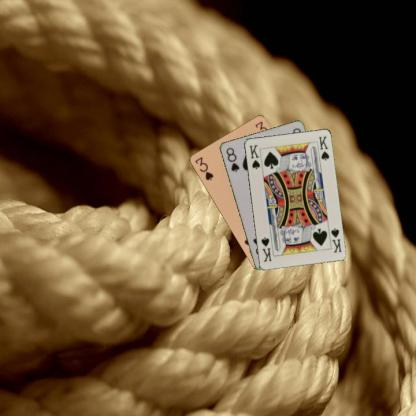3s: (192, 154, 214, 182)
8s: (223, 145, 240, 173)
Ks: (328, 225, 343, 254), (247, 142, 261, 171)
